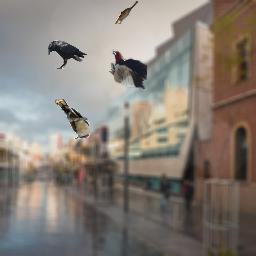Crow: (48, 40, 88, 69)
Cuckoo: (55, 99, 90, 139), (115, 1, 138, 24)
Woodpecker: (109, 49, 147, 89)
